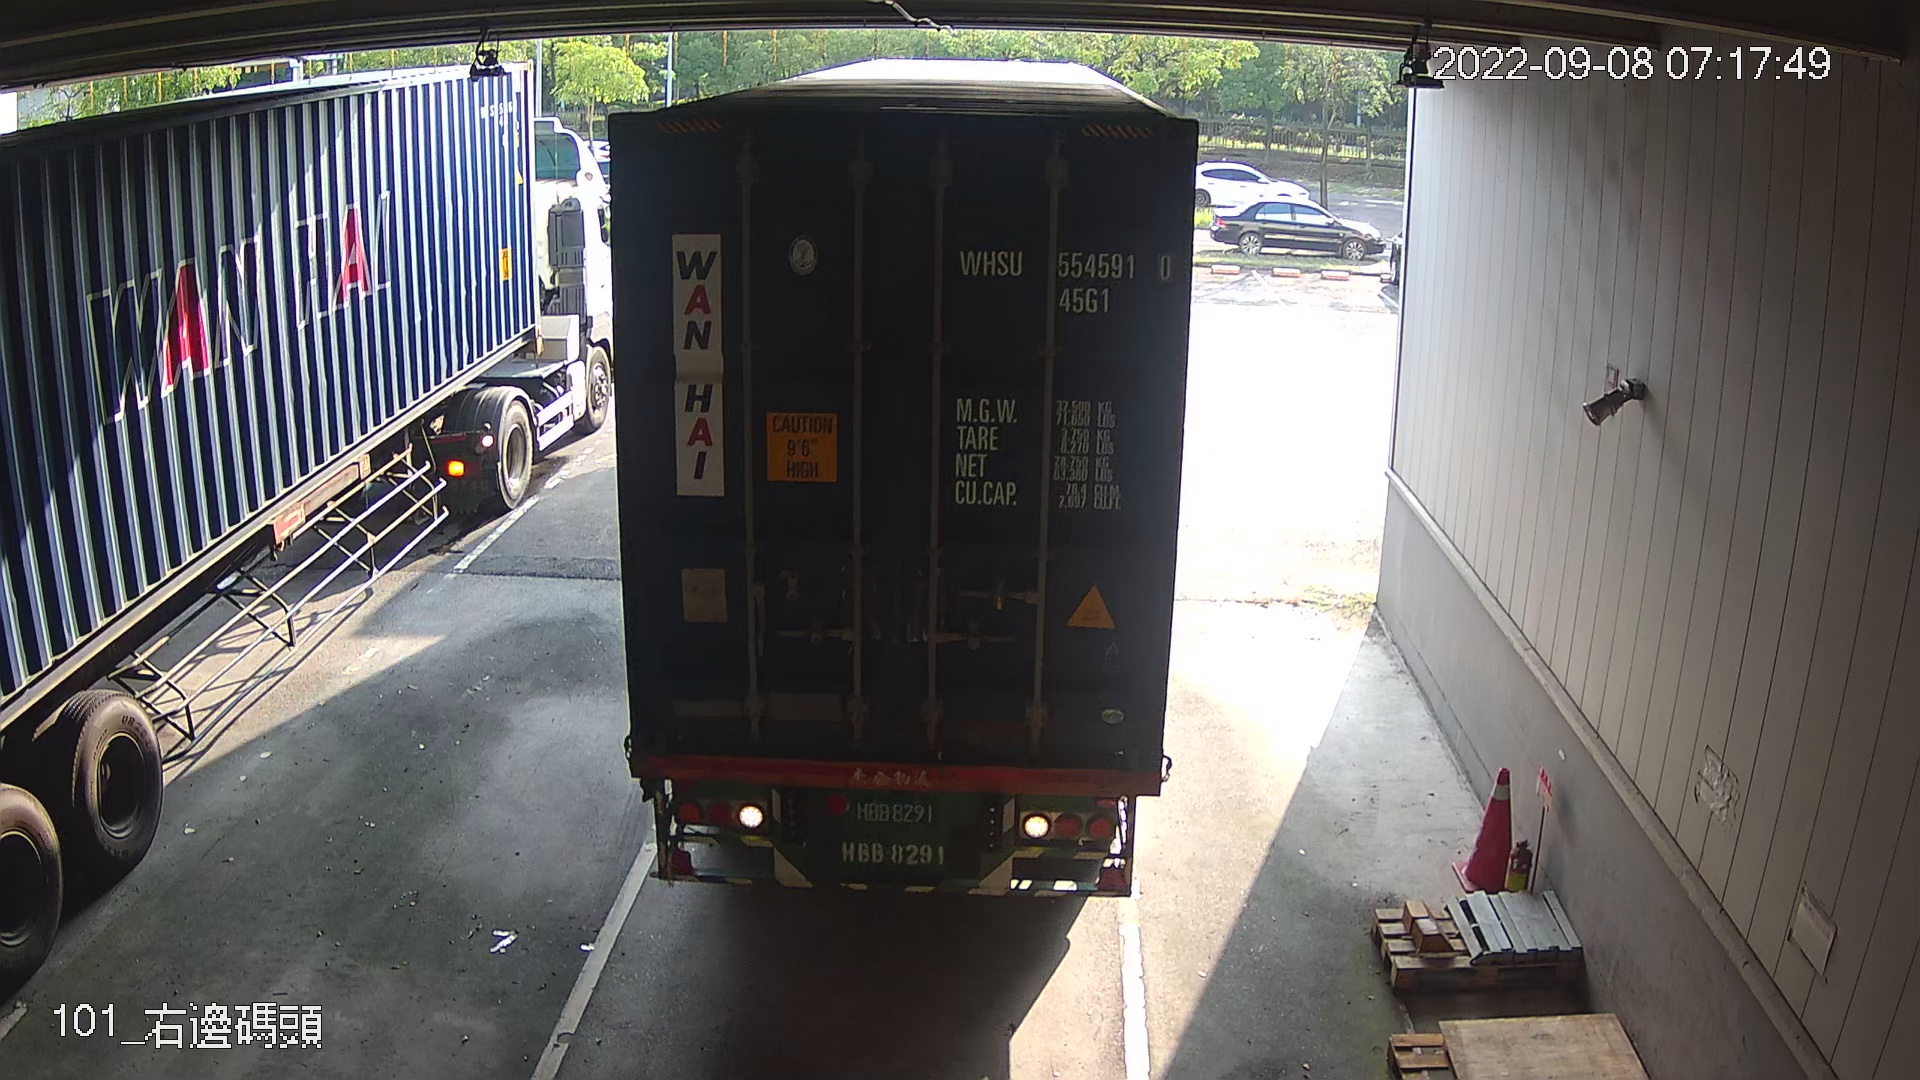container: (951, 239, 1178, 320)
